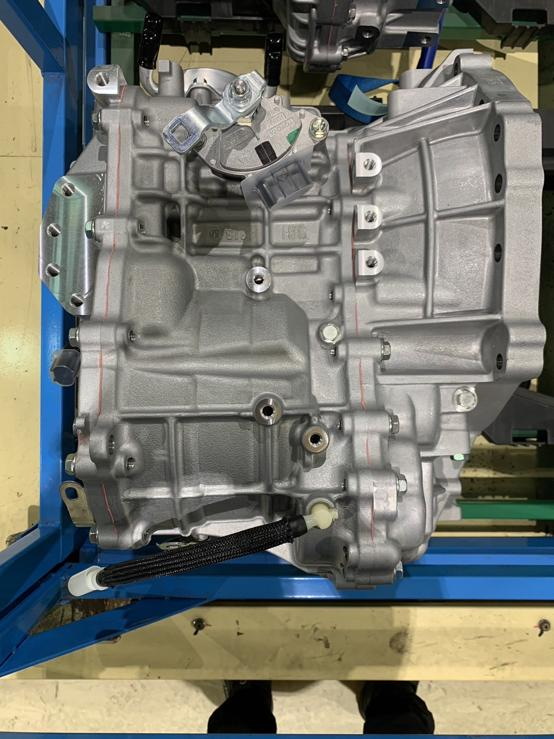gearbox_type1: (47, 50, 548, 591)
gearbox_type1_FP1: (351, 152, 385, 185)
gearbox_type1_FP2: (350, 203, 386, 243)
gearbox_type1_FP3: (87, 61, 126, 97)
